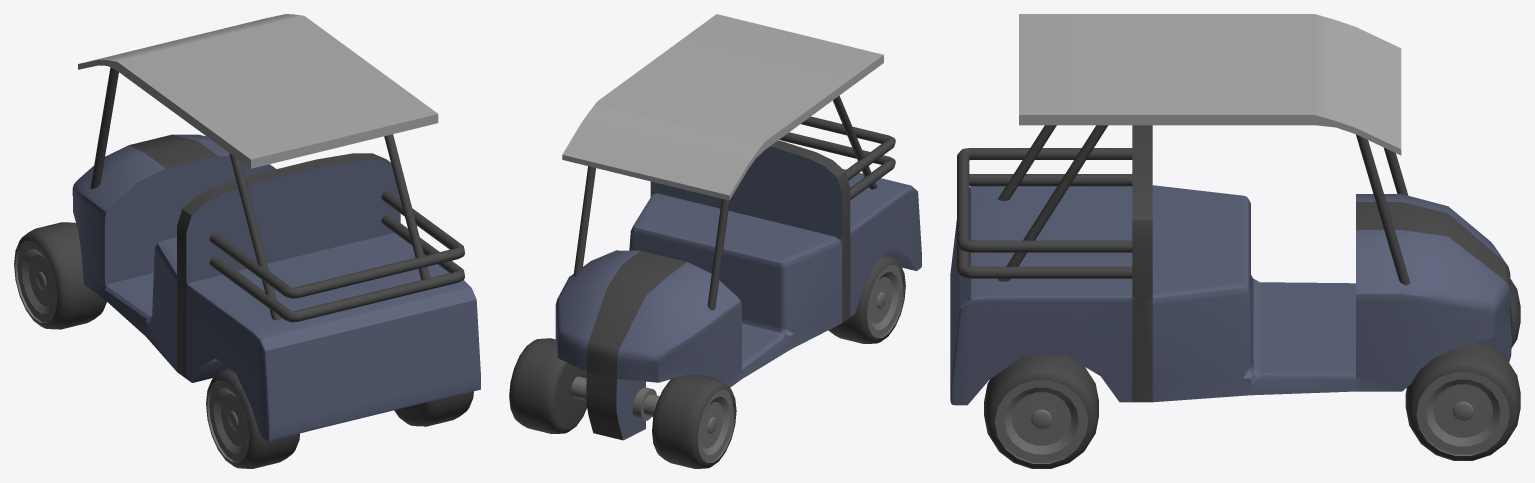
File: golf_kart.fbx
The picture shows the model from 3 angles, left to right: view 1: azimuth 30°, elevation 25°; view 2: azimuth 150°, elevation 25°; view 3: azimuth 270°, elevation 25°; orthographic projection. The views are drawn at different scales.
Parts seen in each view (by area): view 1: golf_kart; view 2: golf_kart; view 3: golf_kart.
Part boxes in pixels (x1=…): golf_kart: x1=14, y1=14, x2=480, y2=468; golf_kart: x1=509, y1=14, x2=921, y2=468; golf_kart: x1=950, y1=14, x2=1520, y2=468.
Bounding box in the file's own units: 285 × 379 × 567.
